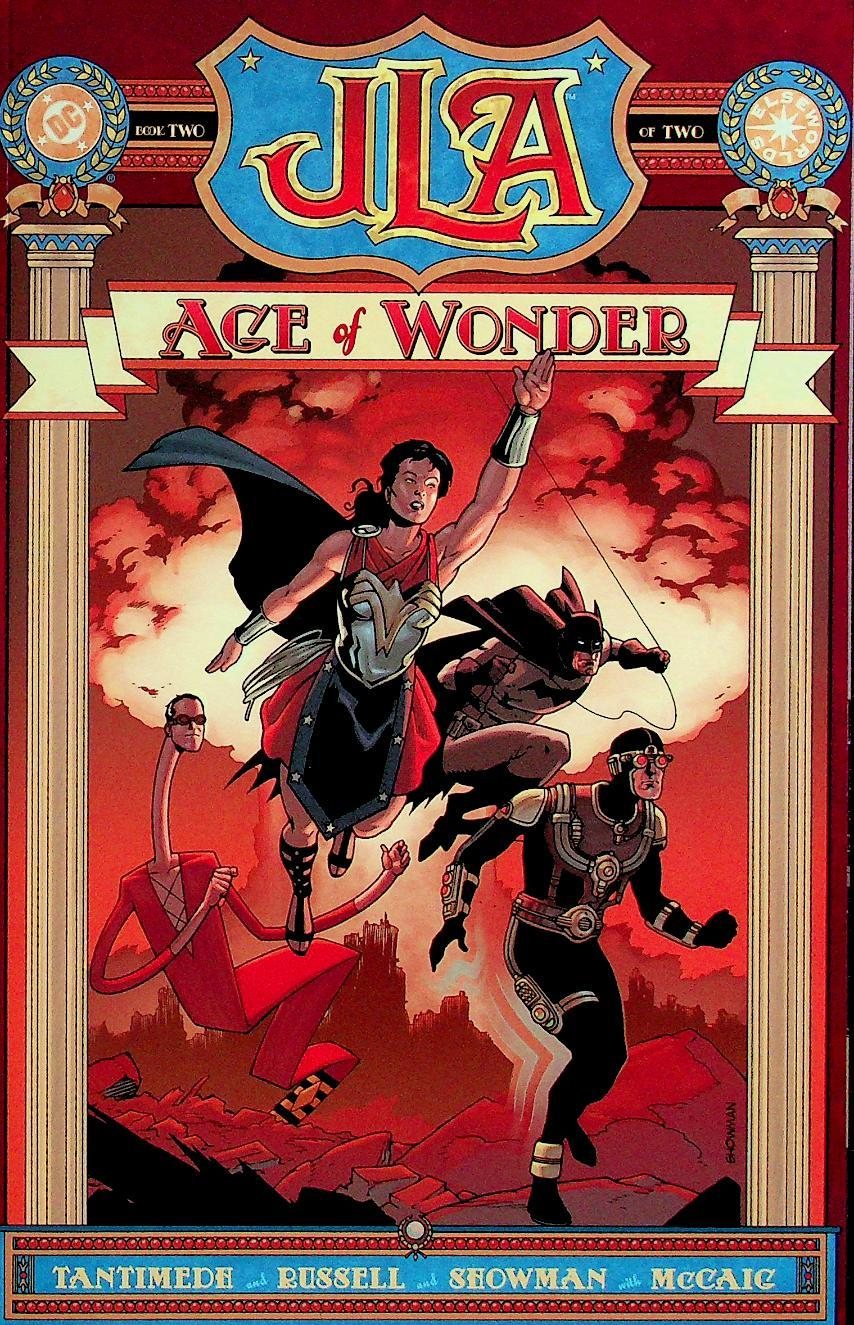comic: (0, 0, 851, 1321)
